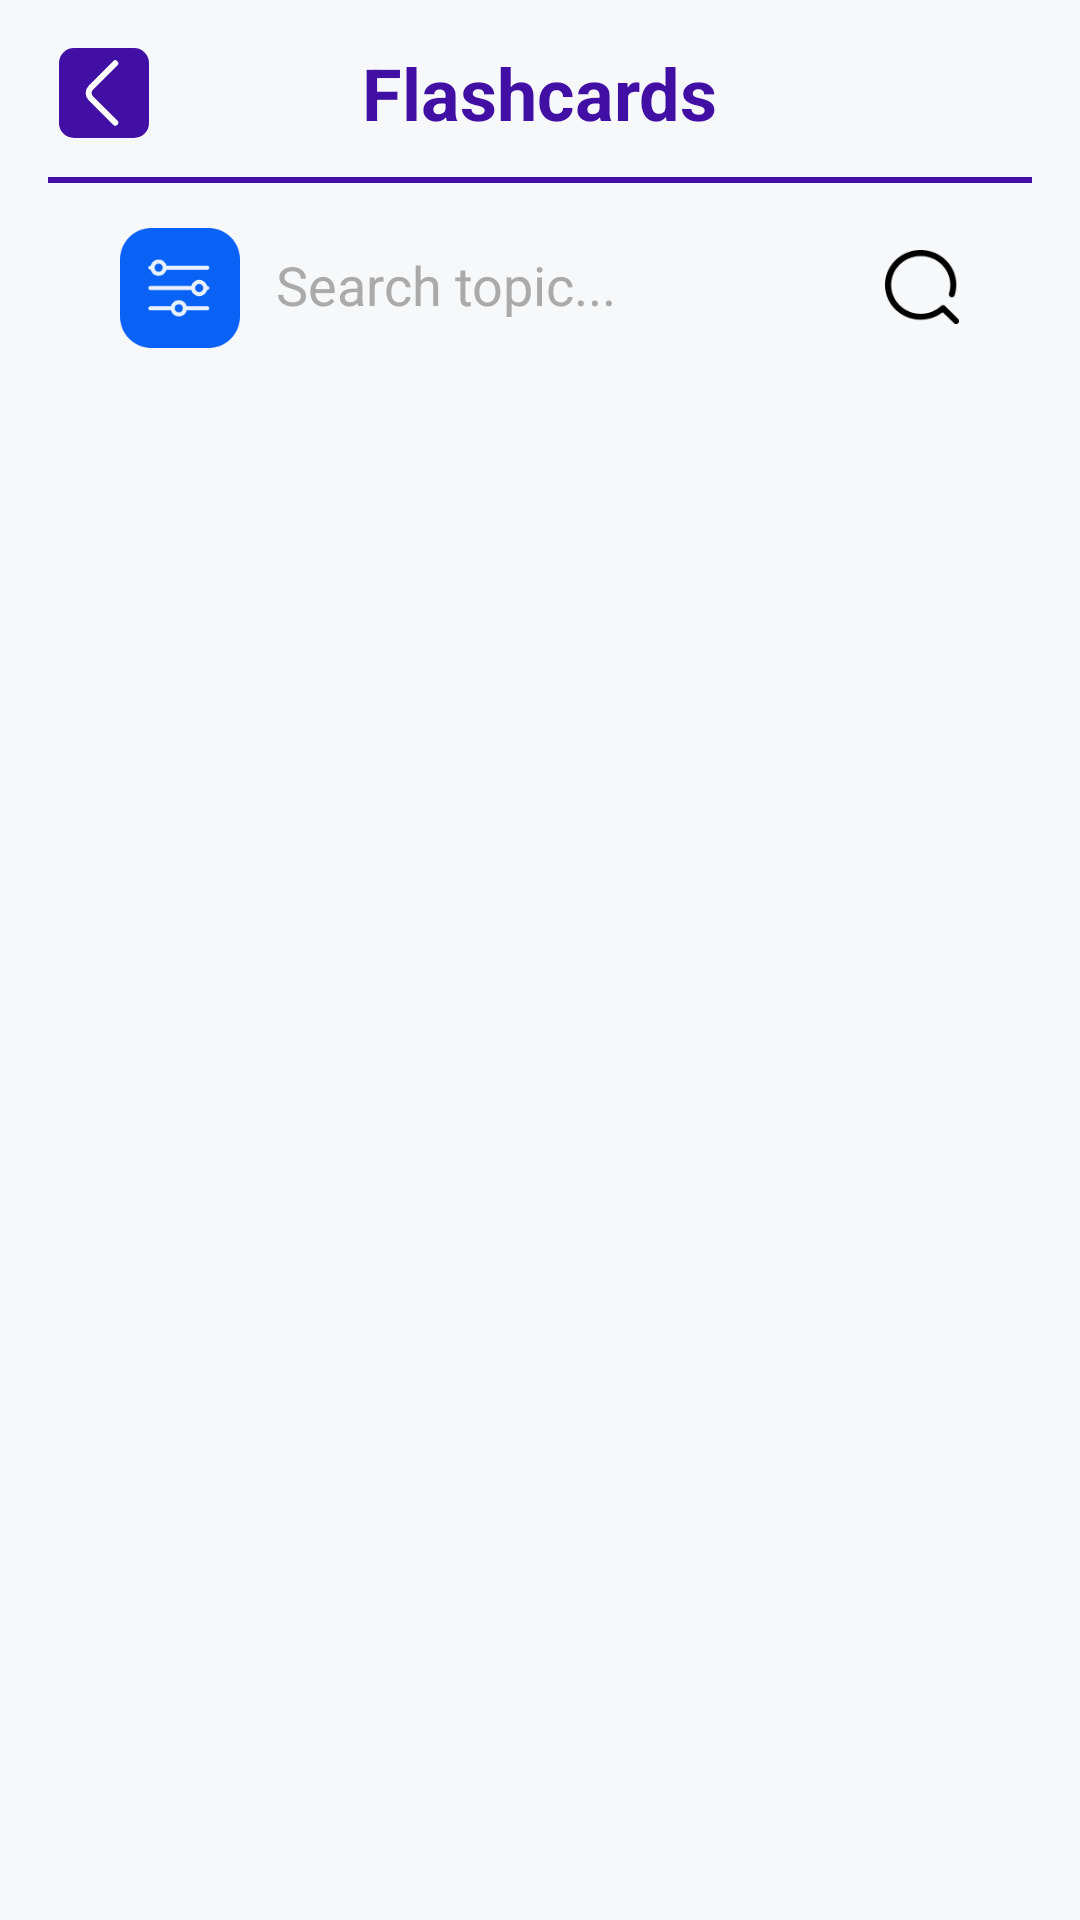

Screen size 1080 × 1920. Icon name, then its center in pixels as [x,y]:
Back: [104,93]
filter: [180,288]
